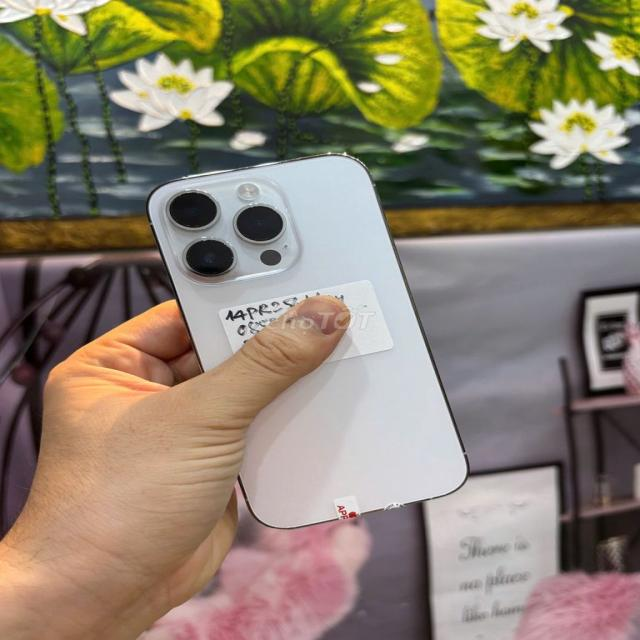gen_14: (145, 147, 467, 537)
